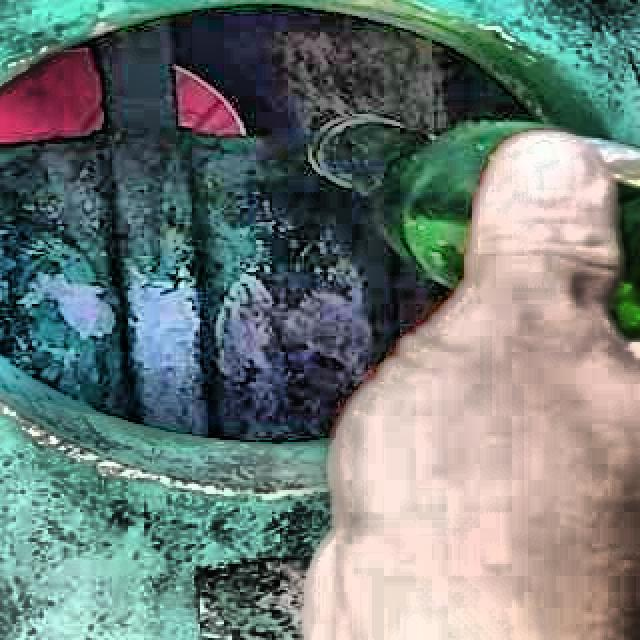glass: (312, 121, 552, 285)
